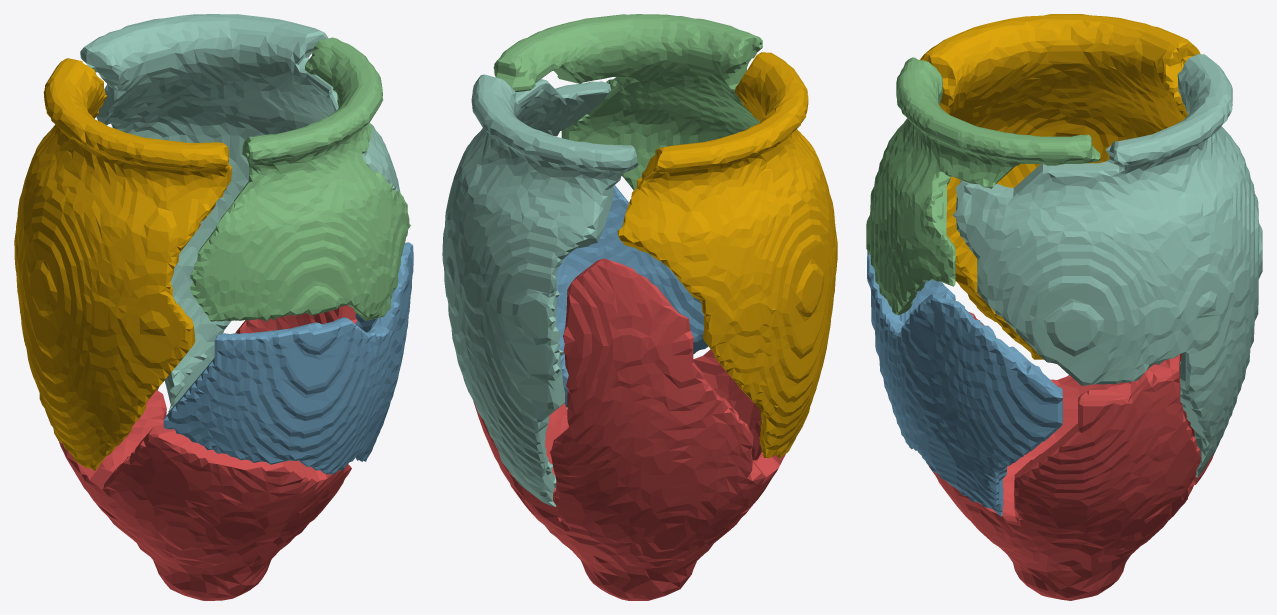
3 renders of one model, left to right at view 1: azimuth 30°, elevation 25°; view 2: azimuth 150°, elevation 25°; view 3: azimuth 270°, elevation 25°, orthographic.
Visible parts, largest first — view 1: AssimpScene, AssimpScene_3, AssimpScene_4, AssimpScene_1, AssimpScene_2; view 2: AssimpScene_1, AssimpScene, AssimpScene_4, AssimpScene_3, AssimpScene_2; view 3: AssimpScene_4, AssimpScene_1, AssimpScene, AssimpScene_2, AssimpScene_3.
Part boxes in pixels (box(x1,y1,x2,y2)): AssimpScene: box(14, 58, 231, 470); AssimpScene_3: box(190, 37, 410, 321); AssimpScene_4: box(80, 14, 400, 411); AssimpScene_1: box(53, 305, 357, 600); AssimpScene_2: box(163, 242, 413, 474); AssimpScene_1: box(473, 258, 785, 600); AssimpScene: box(617, 52, 837, 458); AssimpScene_4: box(442, 74, 638, 506); AssimpScene_3: box(493, 14, 762, 190); AssimpScene_2: box(556, 185, 708, 407); AssimpScene_4: box(952, 54, 1262, 477); AssimpScene_1: box(928, 312, 1213, 600); AssimpScene: box(919, 14, 1200, 359); AssimpScene_2: box(867, 251, 1062, 516); AssimpScene_3: box(866, 57, 1100, 315).
Size of the model in its own units: 14.59 by 20.87 by 14.56.
